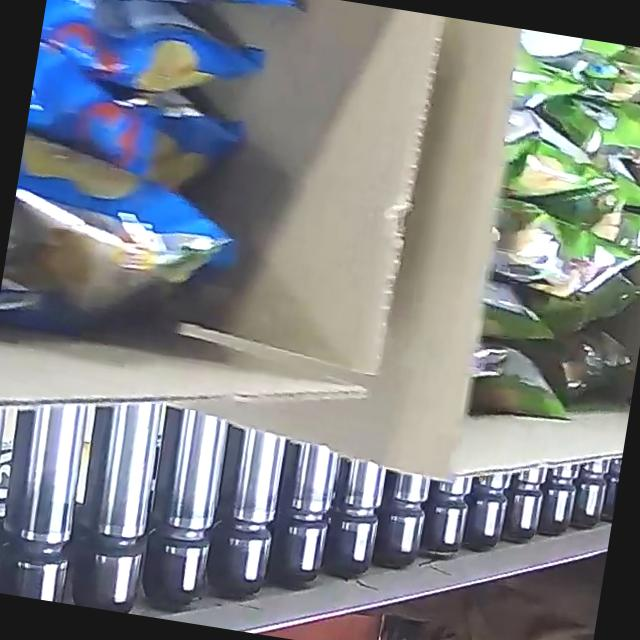paprika: (0, 0, 309, 361)
yogurt: (459, 27, 640, 435)
